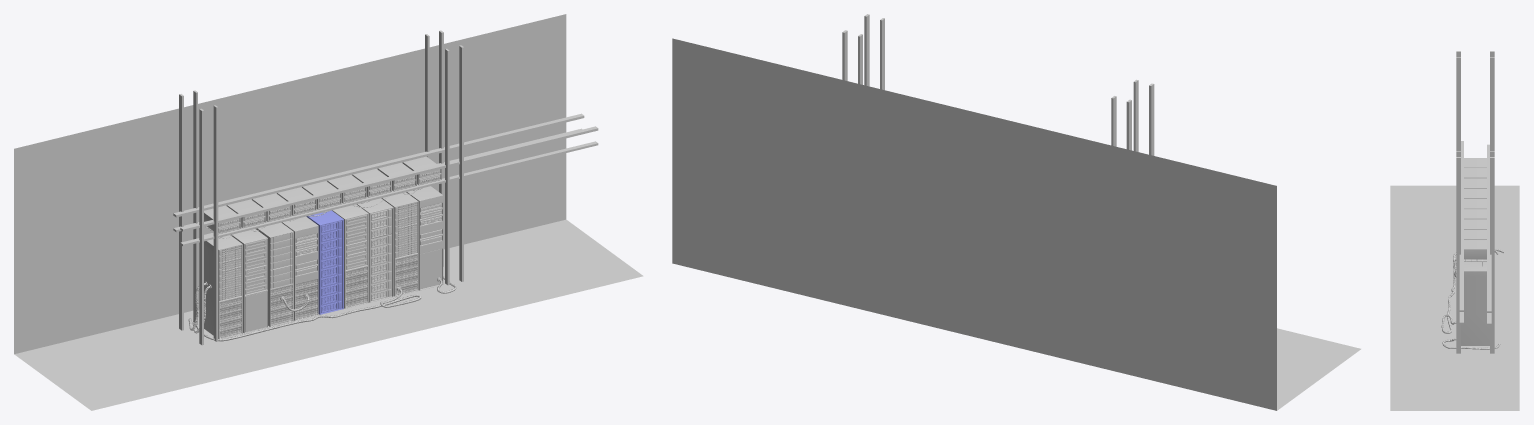
File: servers-draco.gltf
3 renders of one model, left to right at view 1: azimuth 30°, elevation 25°; view 2: azimuth 150°, elevation 25°; view 3: azimuth 270°, elevation 25°, orthographic. The views are drawn at different scales.
Parts seen in each view (by area): view 1: order-b2b; view 2: order-b2b; view 3: order-b2b.
Boxes of the visible parts, x1,y1,x2,y2 form: order-b2b: (14,14,643,410); order-b2b: (672,14,1360,410); order-b2b: (1390,51,1519,410).
Size of the model in its own units: 517 by 211 by 126.
